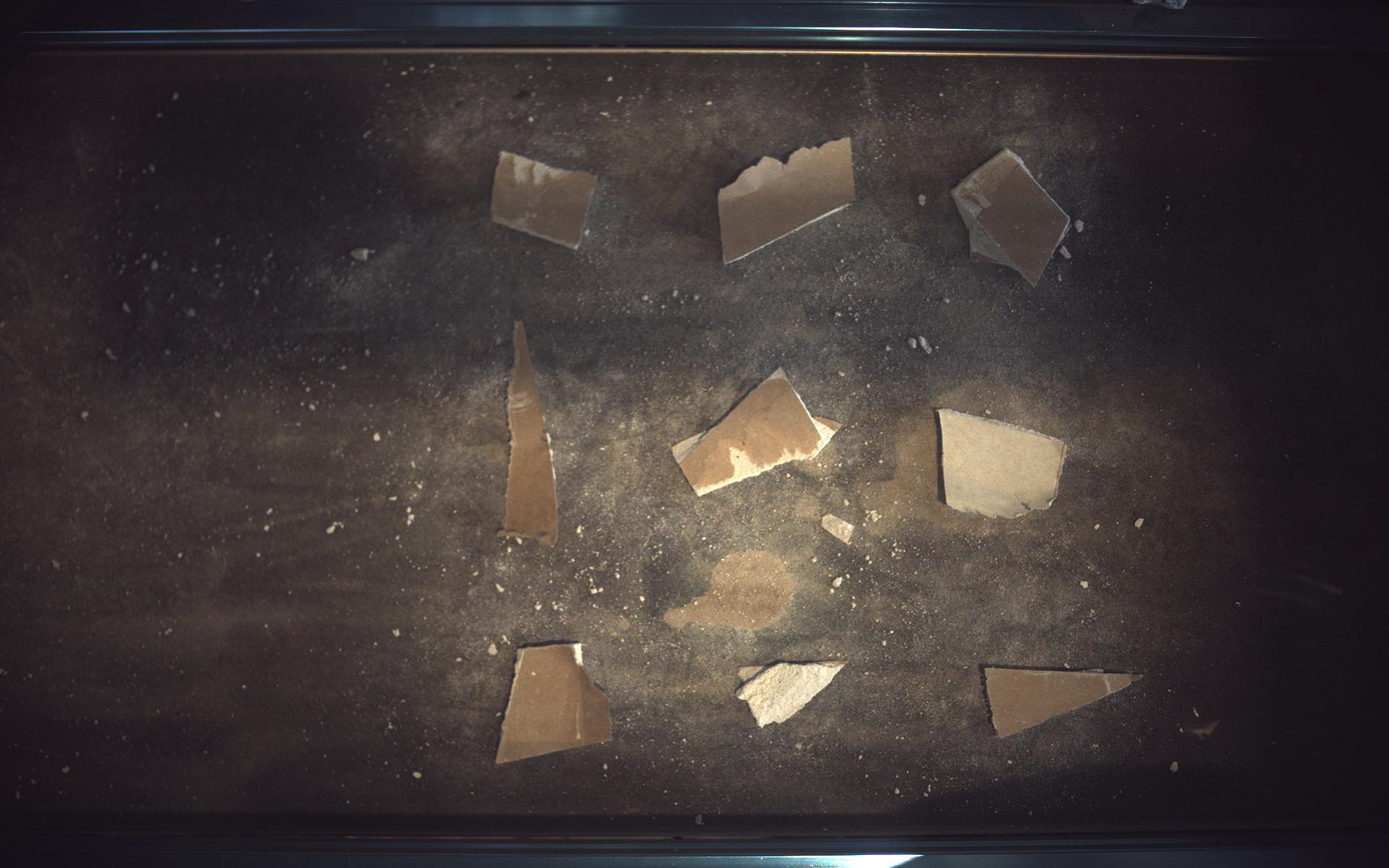gypsum_board: (673, 367, 842, 495), (719, 137, 856, 263), (953, 148, 1073, 286), (496, 644, 613, 765), (941, 409, 1069, 519), (498, 320, 558, 546), (986, 668, 1145, 739), (492, 150, 598, 248), (737, 663, 846, 728)
